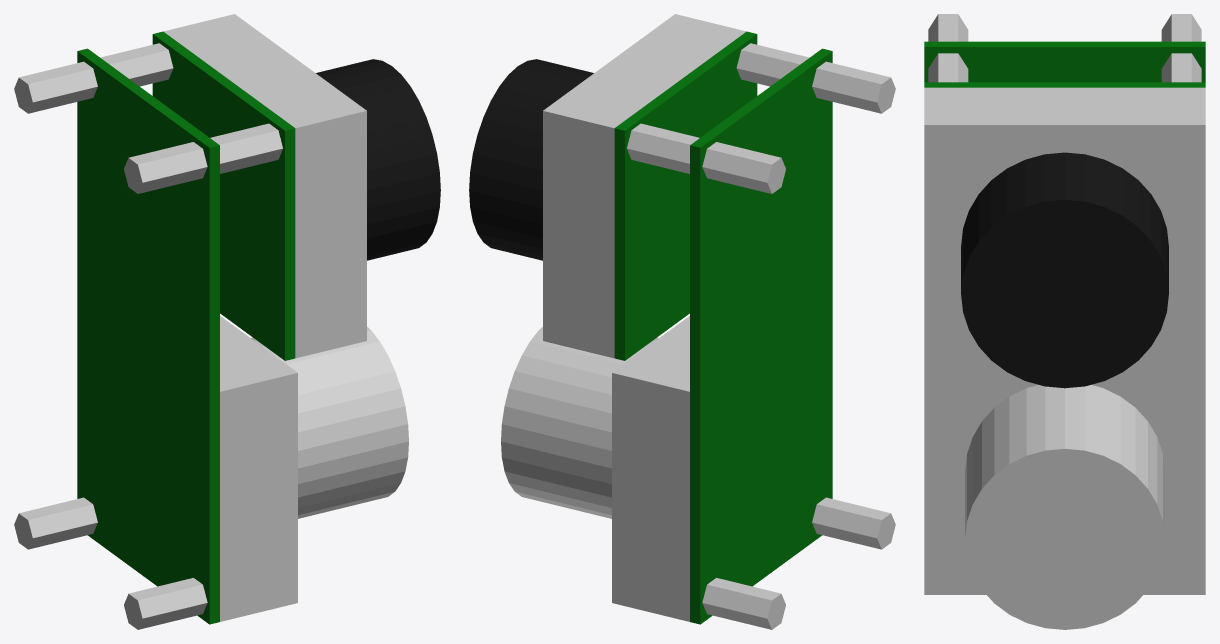
File: leddarvu.dae
The picture shows the model from 3 angles, left to right: view 1: azimuth 30°, elevation 25°; view 2: azimuth 150°, elevation 25°; view 3: azimuth 270°, elevation 25°; orthographic projection. The views are drawn at different scales.
Visible parts, largest first — view 1: Cube, Cube_003, Cube_001, Cube_002, Cylinder_001, Cylinder, Cylinder_004, Cylinder_003, Cylinder_002, Cylinder_005, Cylinder_007, Cylinder_006; view 2: Cube, Cube_003, Cube_001, Cube_002, Cylinder_001, Cylinder, Cylinder_003, Cylinder_004, Cylinder_002, Cylinder_005, Cylinder_006, Cylinder_007; view 3: Cylinder_001, Cube_003, Cylinder, Cube_001, Cube, Cube_002, Cylinder_006, Cylinder_007, Cylinder_002, Cylinder_005.
Boxes of the visible parts, x1,y1,x2,y2 form: Cube: (77, 48, 219, 624); Cube_003: (163, 14, 366, 358); Cube_001: (220, 316, 297, 621); Cube_002: (152, 31, 295, 360); Cylinder_001: (251, 327, 408, 518); Cylinder: (316, 59, 440, 260); Cylinder_004: (14, 497, 97, 549); Cylinder_003: (124, 578, 207, 629); Cylinder_002: (124, 142, 207, 193); Cylinder_005: (14, 61, 97, 113); Cylinder_007: (210, 123, 282, 173); Cylinder_006: (100, 43, 173, 86); Cube: (690, 48, 832, 624); Cube_003: (543, 14, 746, 358); Cube_001: (612, 316, 689, 621); Cube_002: (614, 31, 757, 360); Cylinder_001: (501, 327, 658, 518); Cylinder: (469, 59, 593, 260); Cylinder_003: (812, 497, 895, 549); Cylinder_004: (702, 578, 785, 629); Cylinder_002: (812, 61, 895, 113); Cylinder_005: (702, 142, 785, 193); Cylinder_006: (627, 123, 699, 173); Cylinder_007: (736, 43, 809, 86); Cylinder_001: (965, 385, 1164, 629); Cube_003: (924, 87, 1205, 369); Cylinder: (961, 152, 1168, 388); Cube_001: (924, 370, 1205, 594); Cube: (924, 41, 1205, 82); Cube_002: (924, 82, 1205, 87); Cylinder_006: (1161, 53, 1201, 82); Cylinder_007: (928, 53, 968, 82); Cylinder_002: (928, 14, 968, 41); Cylinder_005: (1161, 14, 1201, 41).
Bounding box in the file's own units: 0.0482 × 0.0352 × 0.07.
